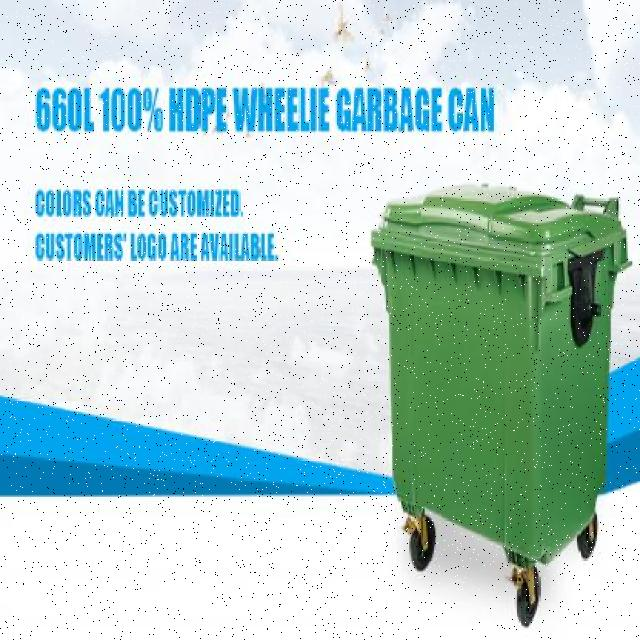garbage container: (364, 176, 639, 639)
